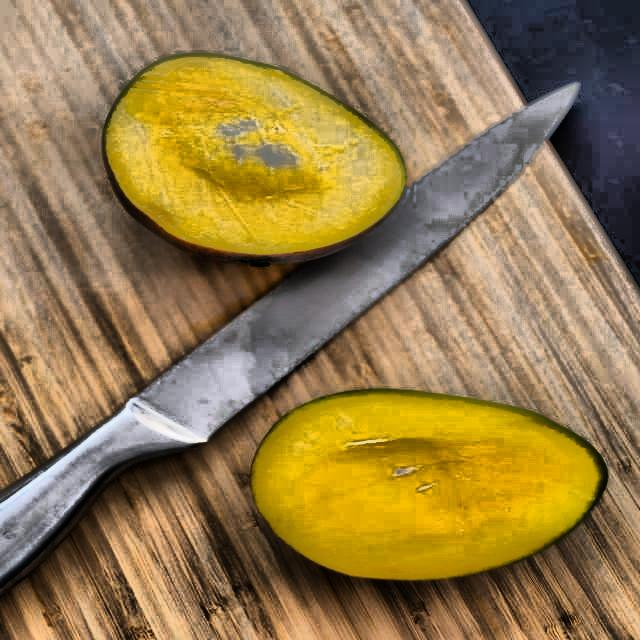knife: (0, 70, 594, 599)
